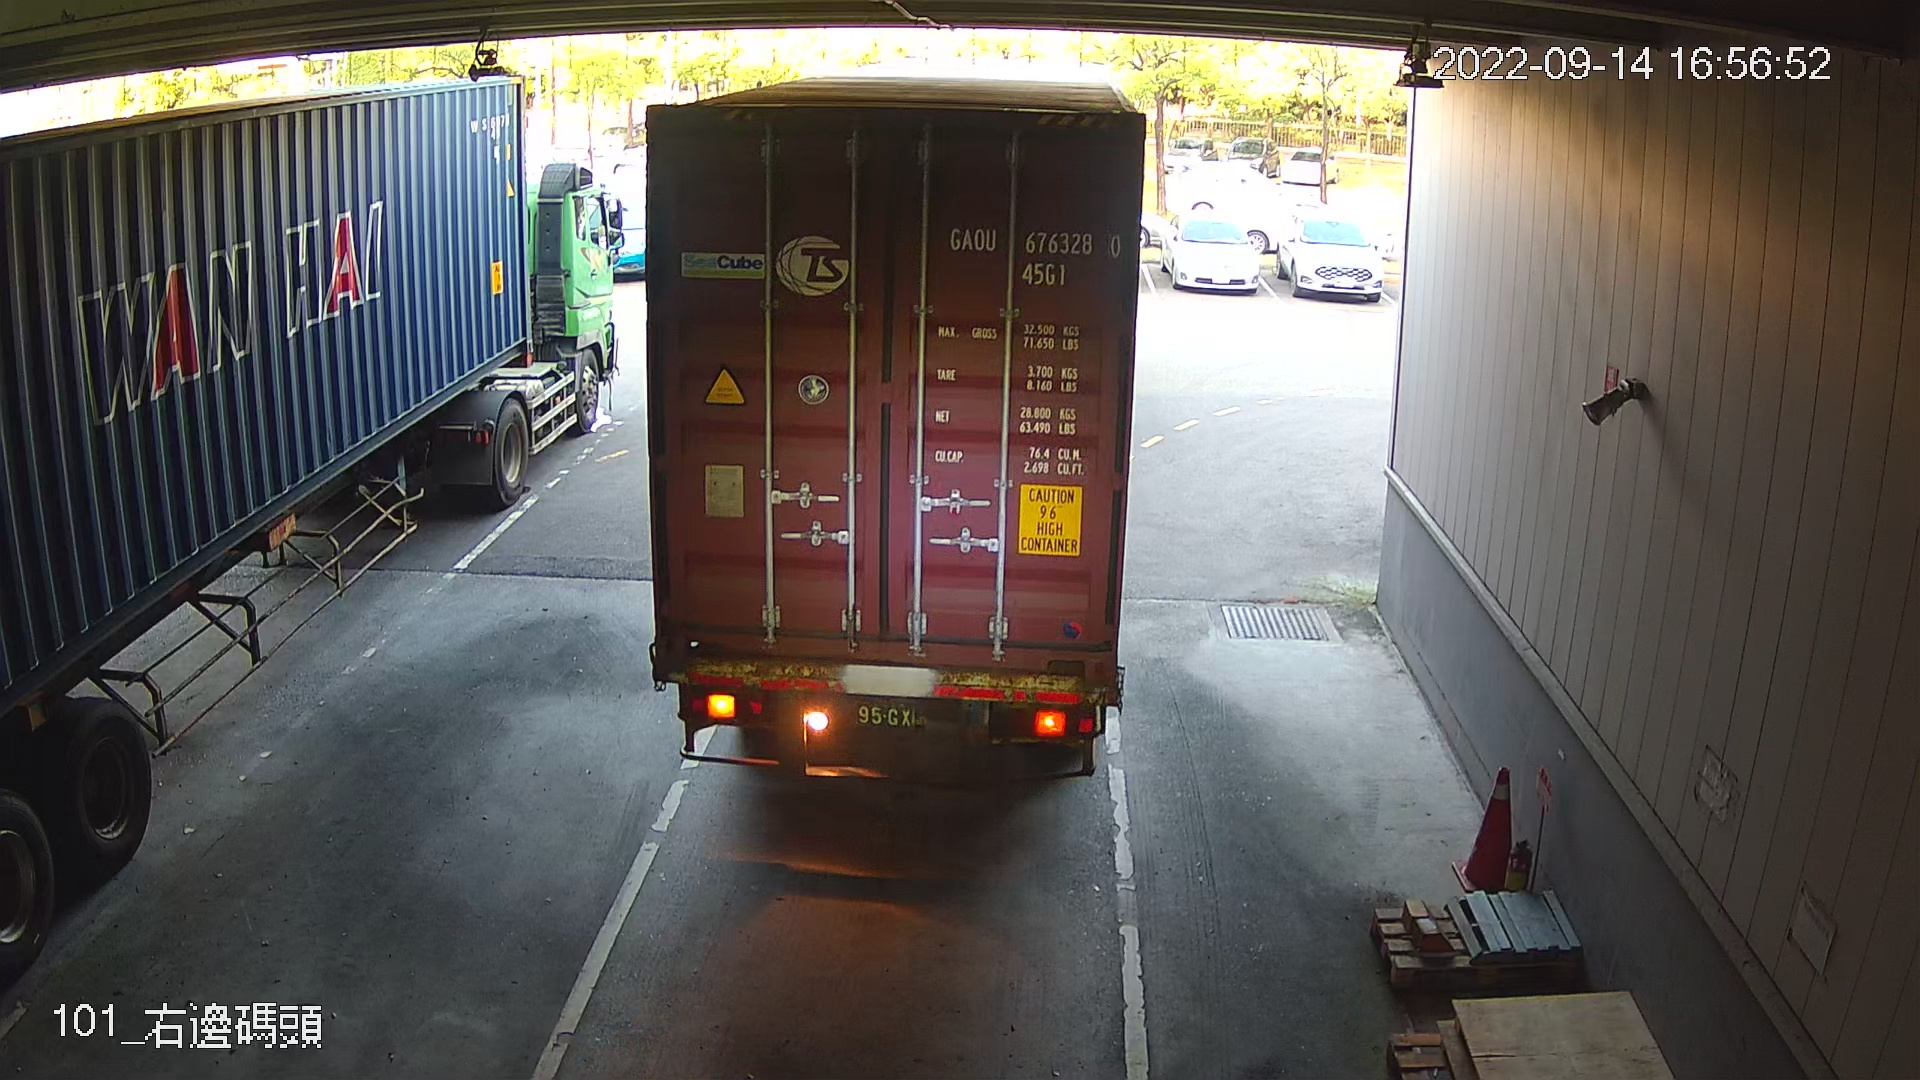container: (942, 216, 1129, 295)
